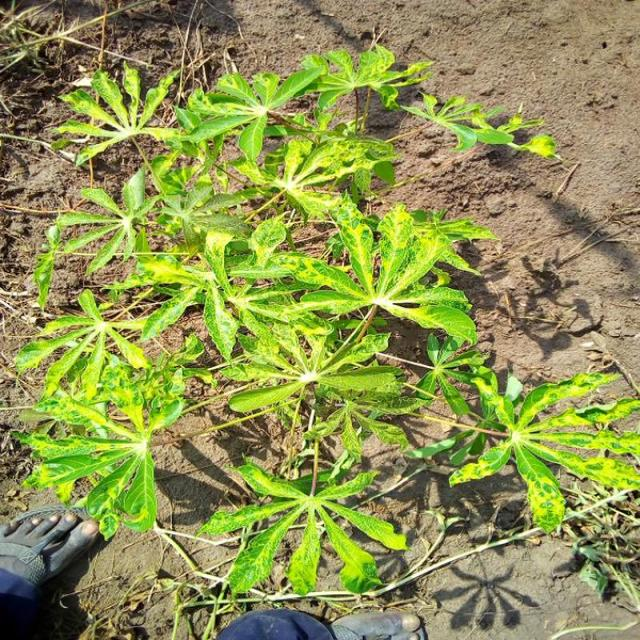cassava leaf: (12, 38, 637, 600), (196, 448, 409, 597)
